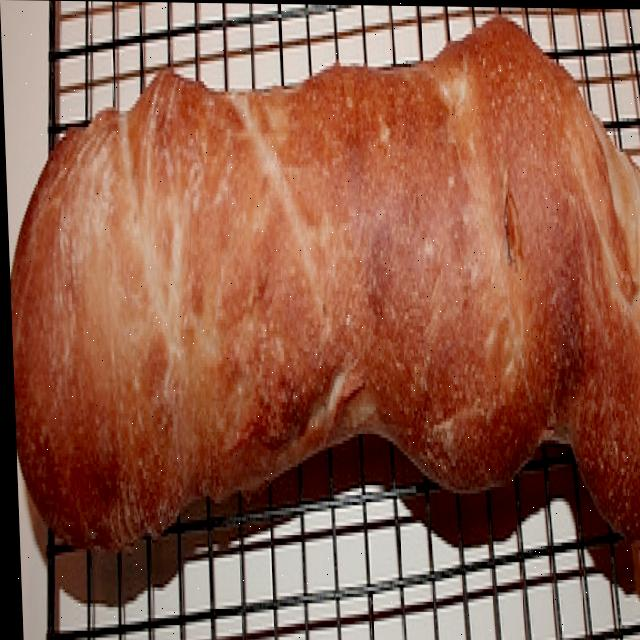面包点心: (0, 1, 640, 610)
